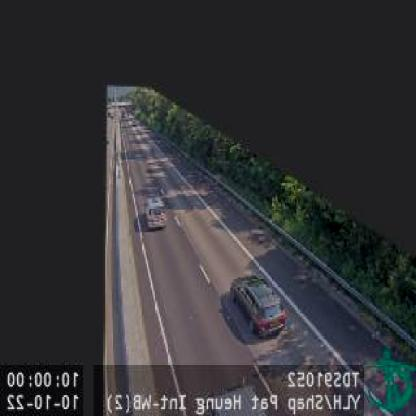Car: (232, 275, 289, 338), (145, 200, 165, 230)
